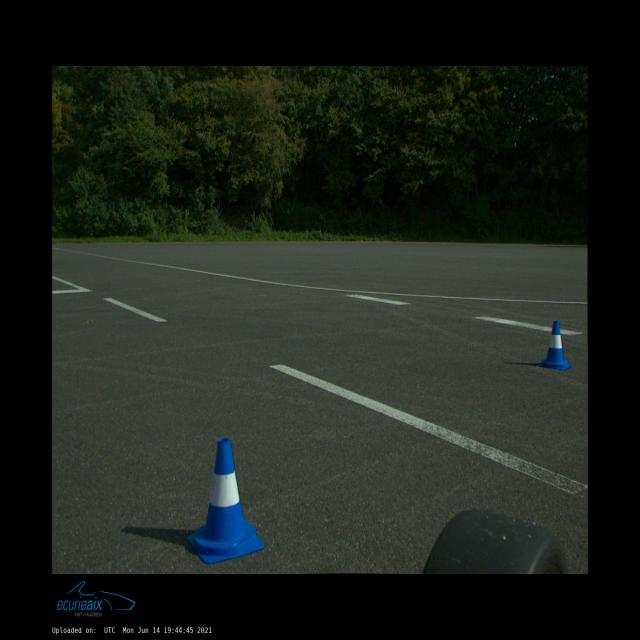blue_cone: (188, 438, 265, 564), (539, 321, 571, 370)
